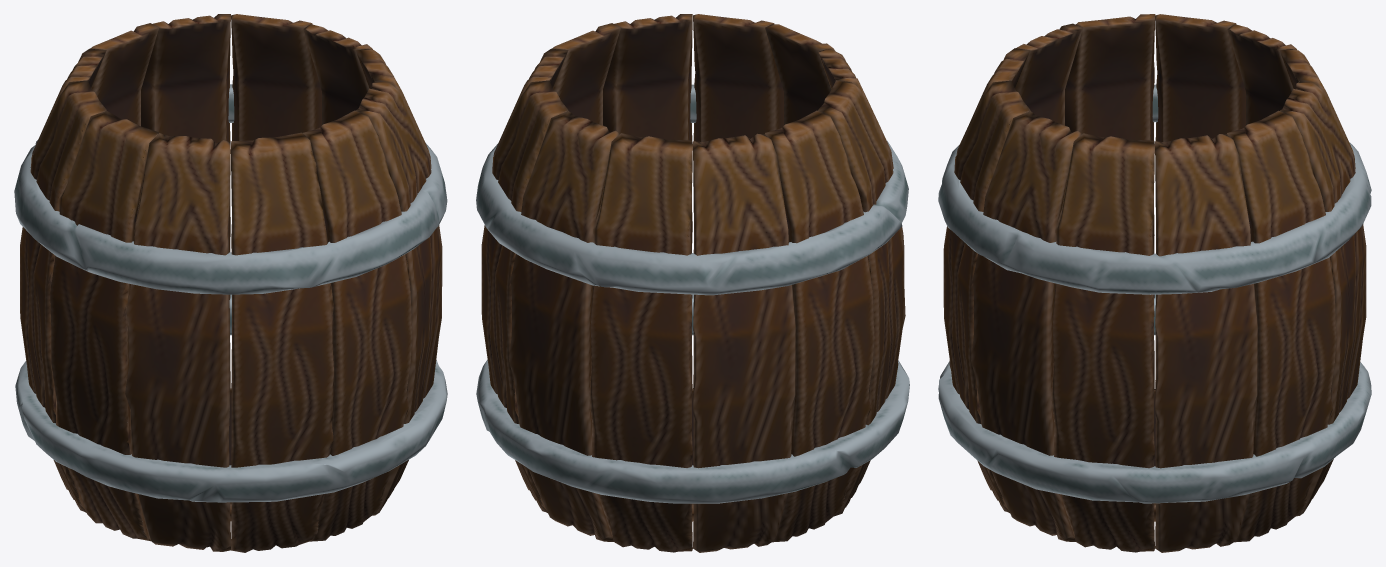
File: BarrelOpen.FBX
3 views of the same model, side by side, from view 1: azimuth 30°, elevation 25°; view 2: azimuth 150°, elevation 25°; view 3: azimuth 270°, elevation 25° (orthographic).
Parts seen in each view (by area): view 1: BarrelOpen_01; view 2: BarrelOpen_01; view 3: BarrelOpen_01.
Part boxes in pixels (x1,y1,x2,y2): BarrelOpen_01: [14, 14, 447, 552]; BarrelOpen_01: [476, 14, 909, 552]; BarrelOpen_01: [938, 14, 1371, 552].
Bounding box in the file's own units: 1.42 × 1.47 × 1.42.
1 material, 1 textured.
